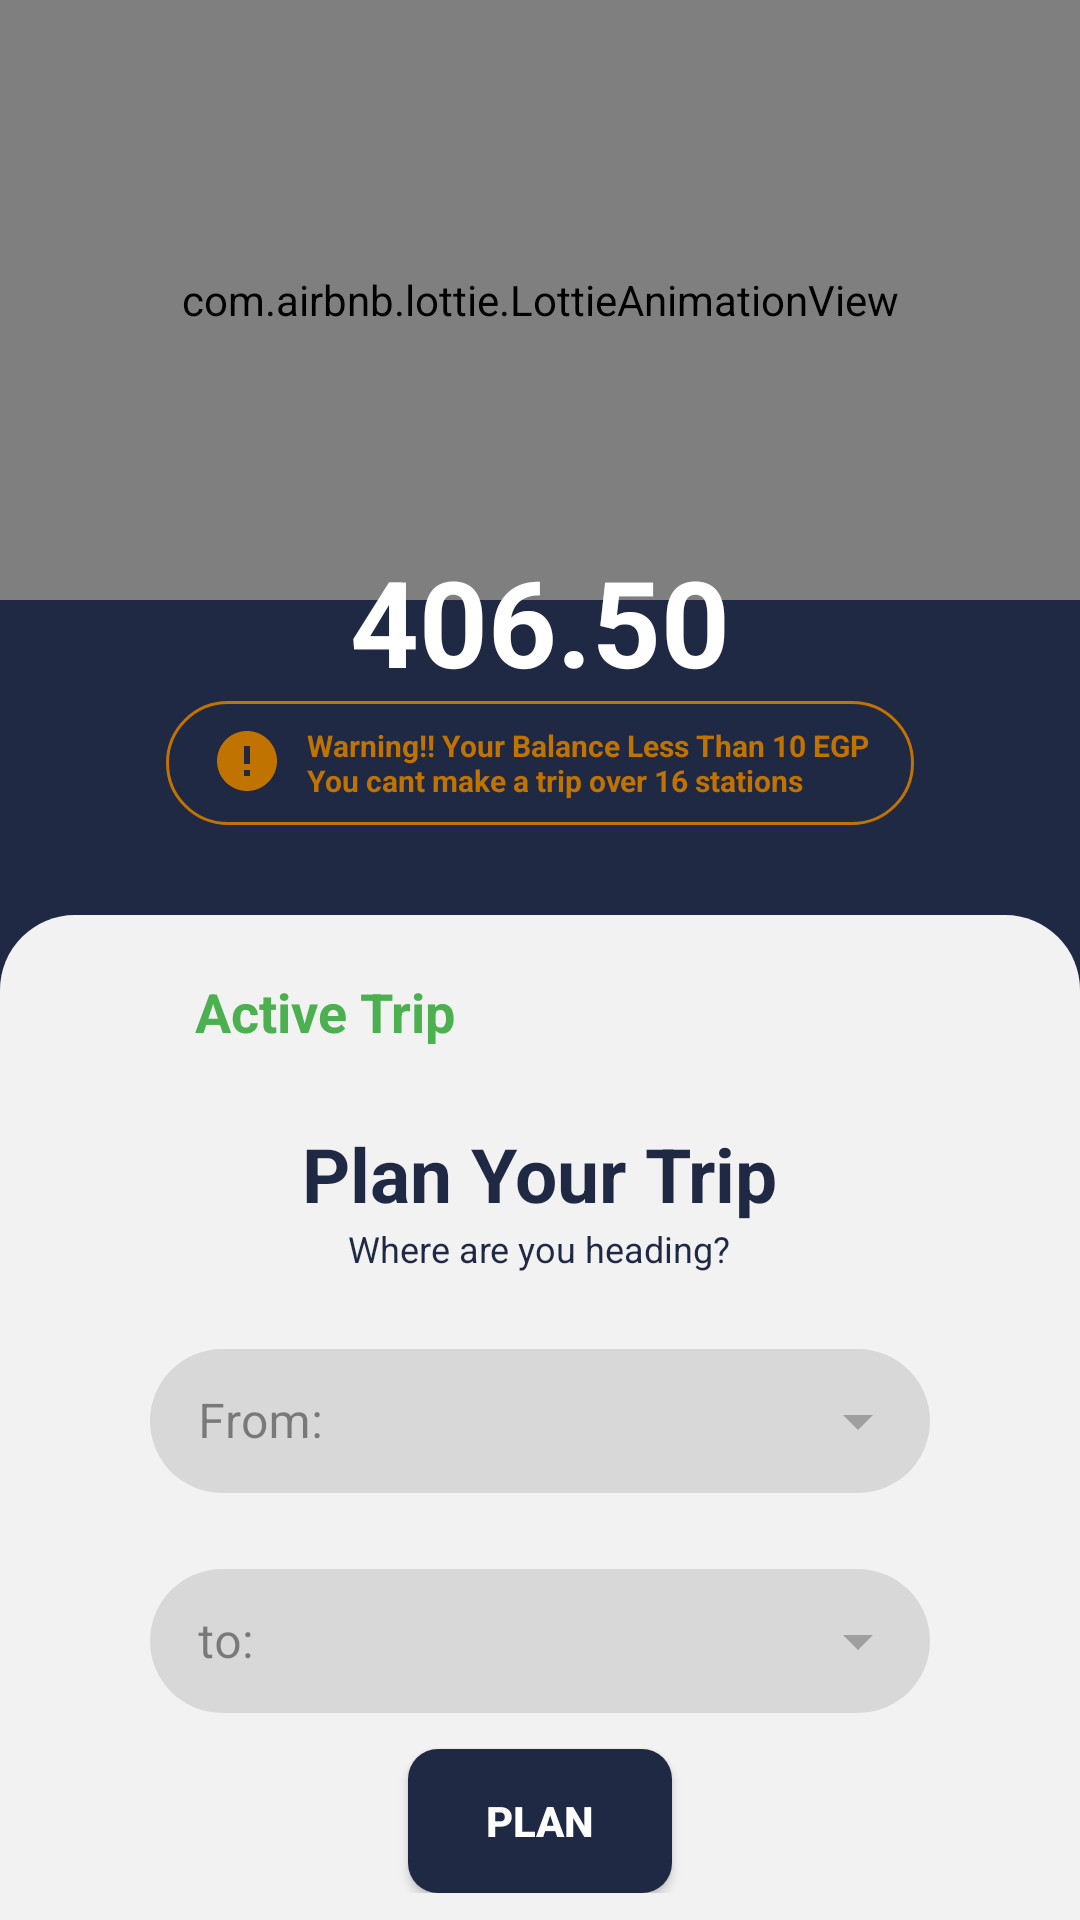

Screen size 1080 x 1920. Icon name, then its box in pixels as box(x1, y1, x2, y2):
fewbalancemessage: box(217, 731, 277, 791)
